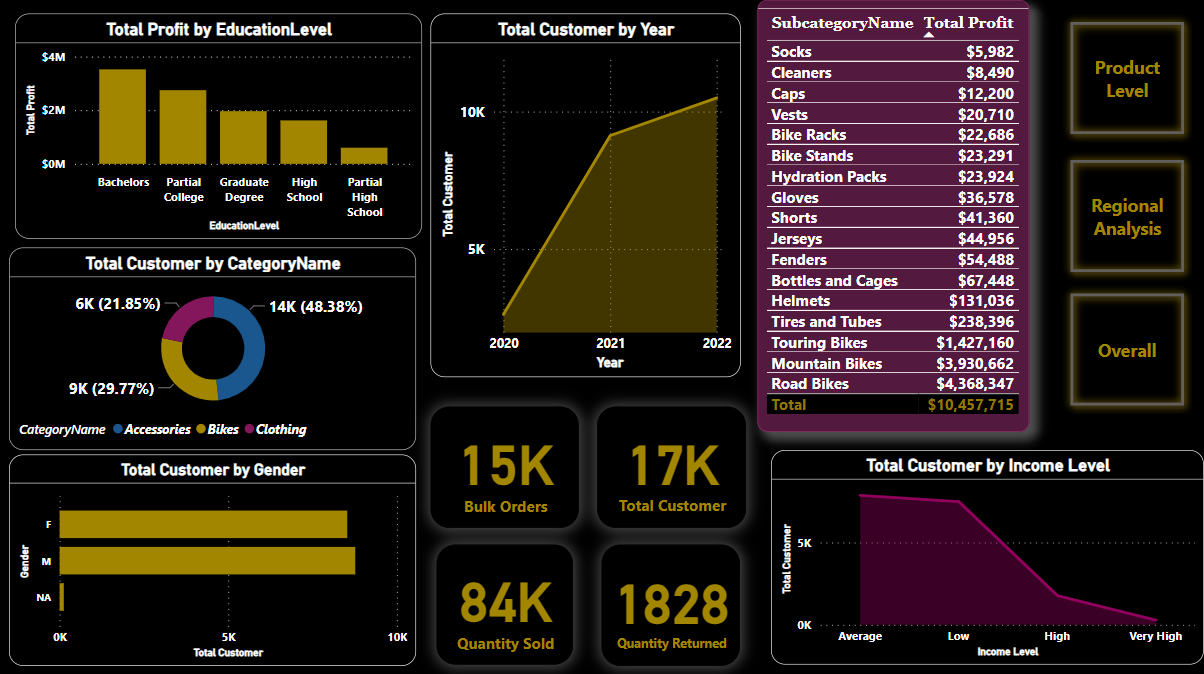

The dashboard page shown, as its layout file describes it:
{"tool":"powerbi","page":{"name":"Customer Level","canvas":[1280,720],"ordinal":0},"visuals":[{"type":"clusteredColumnChart","fields":{"Category":["Customer Lookup (3).EducationLevel"],"Y":["Measure Table.Total Profit"]},"box":[18.4,14.7,431.4,238.6],"z":0},{"type":"donutChart","fields":{"Y":["Measure Table.Total Customer"],"Category":["Product Categories Lookup.CategoryName"]},"box":[12.8,262.5,431.4,214.8],"z":1000},{"type":"stackedAreaChart","fields":{"Category":["Customer Lookup (3).Income Level"],"Y":["Measure Table.Total Customer"]},"box":[820.5,477.3,458.9,227.6],"z":2000},{"type":"card","fields":{"Values":["Measure Table.Bulk Orders"]},"box":[459.3,430.7,157.4,128.7],"z":3000},{"type":"card","fields":{"Values":["Measure Table.Quantity Sold"]},"box":[465.7,577,144.6,127.2],"z":4000},{"type":"card","fields":{"Values":["Measure Table.Quantity Returned"]},"box":[640.6,576.4,146.8,128.5],"z":5000},{"type":"card","fields":{"Values":["Measure Table.Total Customer"]},"box":[635.1,431.4,157.9,128.5],"z":6000},{"type":"tableEx","fields":{"Values":["Product Subcategories Lookup.SubcategoryName","Measure Table.Total Profit"]},"box":[805.8,0,288.2,457.1],"z":7000},{"type":"actionButton","box":[1128.5,14.3,138.3,136.7],"z":8000},{"type":"actionButton","box":[1128.5,160.5,138.3,136.7],"z":9000},{"type":"actionButton","box":[1128.5,302,138.3,136.7],"z":10000},{"type":"clusteredBarChart","fields":{"Category":["Customer Lookup (3).Gender"],"Y":["Measure Table.Total Customer"]},"box":[12.8,480.9,431.4,223.9],"z":11000},{"type":"stackedAreaChart","fields":{"Category":["Calendar Lookup.Start of Year.Variation.Date Hierarchy.Year"],"Y":["Measure Table.Total Customer"]},"box":[458.9,14.7,328.6,385.5],"z":12000}]}

Visuals, with their boxes in screenshot pixels (x1, y1, x2, y2), scaled from the page's 1280x720 canvas onto the 1204x674 screenshot:
clusteredColumnChart - Customer Lookup (3).EducationLevel x Measure Table.Total Profit: rect(17, 14, 423, 237)
donutChart - Measure Table.Total Customer x Product Categories Lookup.CategoryName: rect(12, 246, 418, 447)
stackedAreaChart - Customer Lookup (3).Income Level x Measure Table.Total Customer: rect(772, 447, 1203, 660)
card - Measure Table.Bulk Orders: rect(432, 403, 580, 524)
card - Measure Table.Quantity Sold: rect(438, 540, 574, 659)
card - Measure Table.Quantity Returned: rect(603, 540, 741, 660)
card - Measure Table.Total Customer: rect(597, 404, 746, 524)
tableEx - Product Subcategories Lookup.SubcategoryName x Measure Table.Total Profit: rect(758, 0, 1029, 428)
actionButton: rect(1061, 13, 1192, 141)
actionButton: rect(1061, 150, 1192, 278)
actionButton: rect(1061, 283, 1192, 411)
clusteredBarChart - Customer Lookup (3).Gender x Measure Table.Total Customer: rect(12, 450, 418, 660)
stackedAreaChart - Calendar Lookup.Start of Year.Variation.Date Hierarchy.Year x Measure Table.Total Customer: rect(432, 14, 741, 375)
